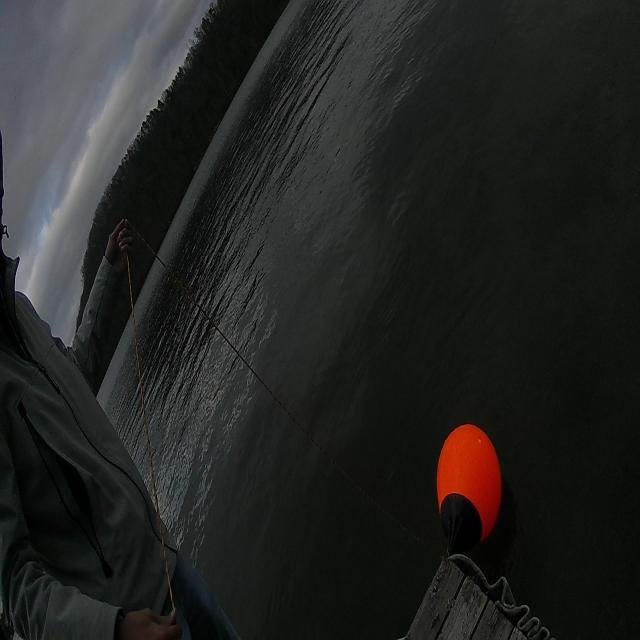Buoy: (432, 418, 504, 546)
